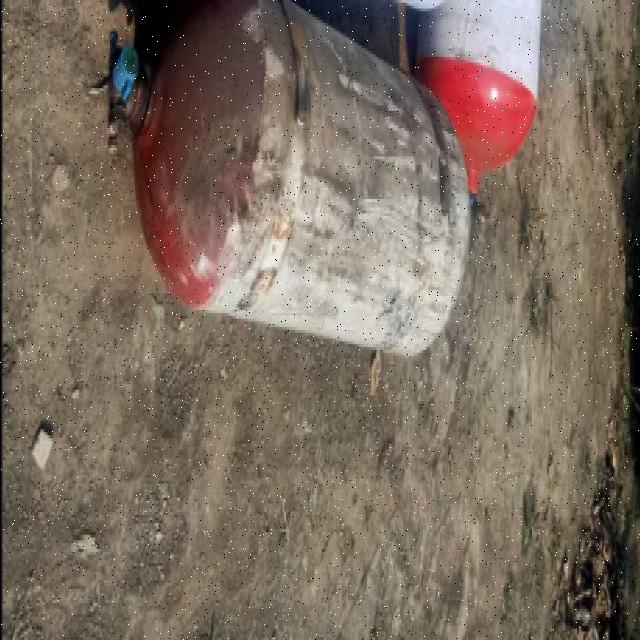cylinder: (105, 5, 470, 356)
